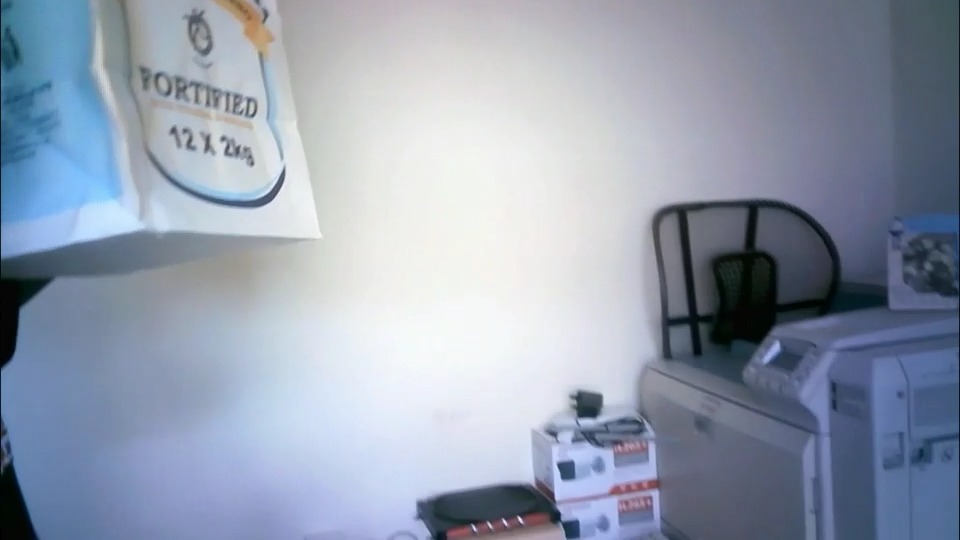wheat_flour_blue_label: (0, 2, 327, 275)
